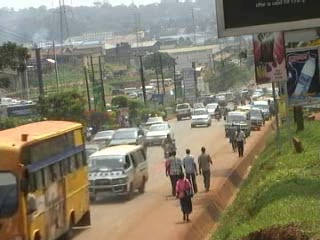Car: (107, 127, 149, 159), (145, 122, 176, 148), (139, 112, 168, 135), (82, 138, 101, 169), (188, 105, 211, 130), (92, 127, 119, 147), (205, 101, 219, 115), (191, 103, 206, 114)
Motorcycle: (158, 140, 179, 165), (212, 107, 221, 121)
